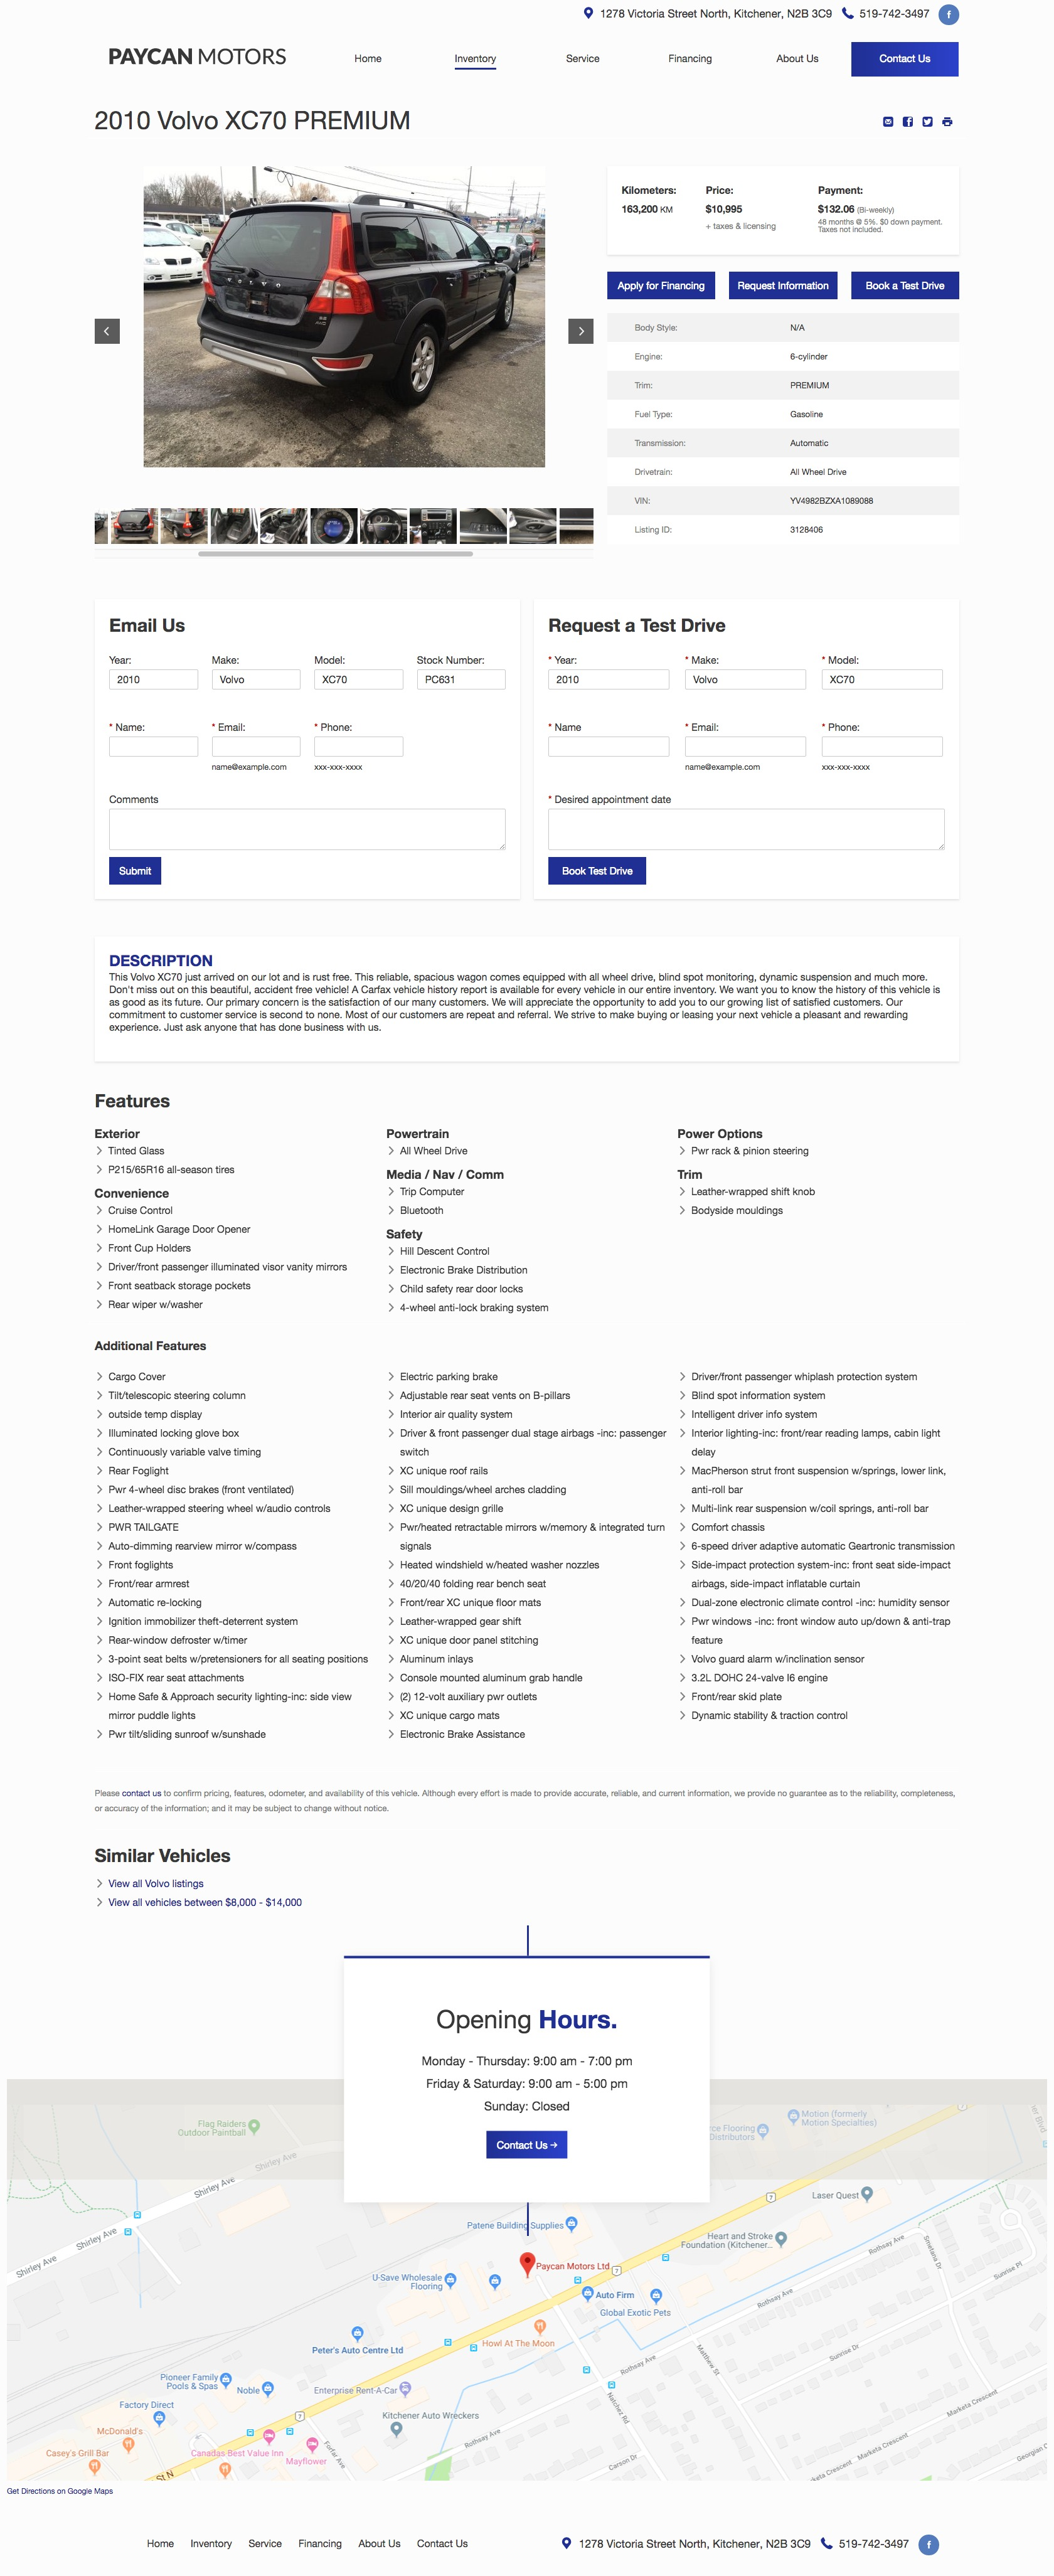car: (566, 317, 596, 345)
